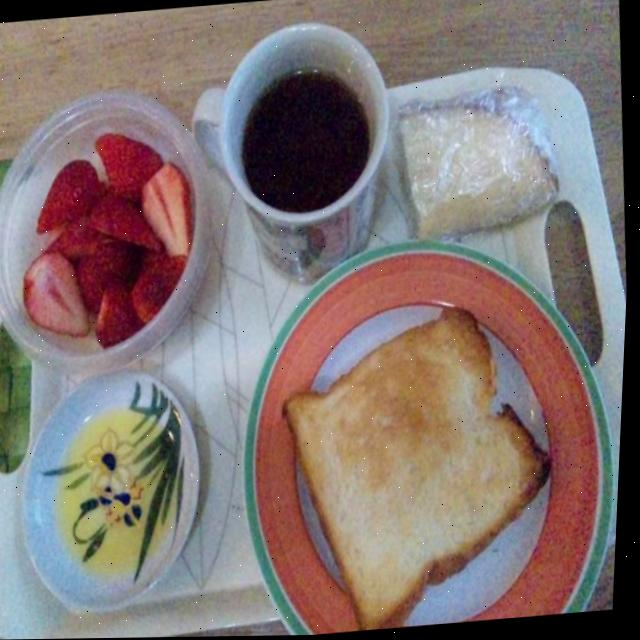面包点心: (214, 234, 631, 637)
